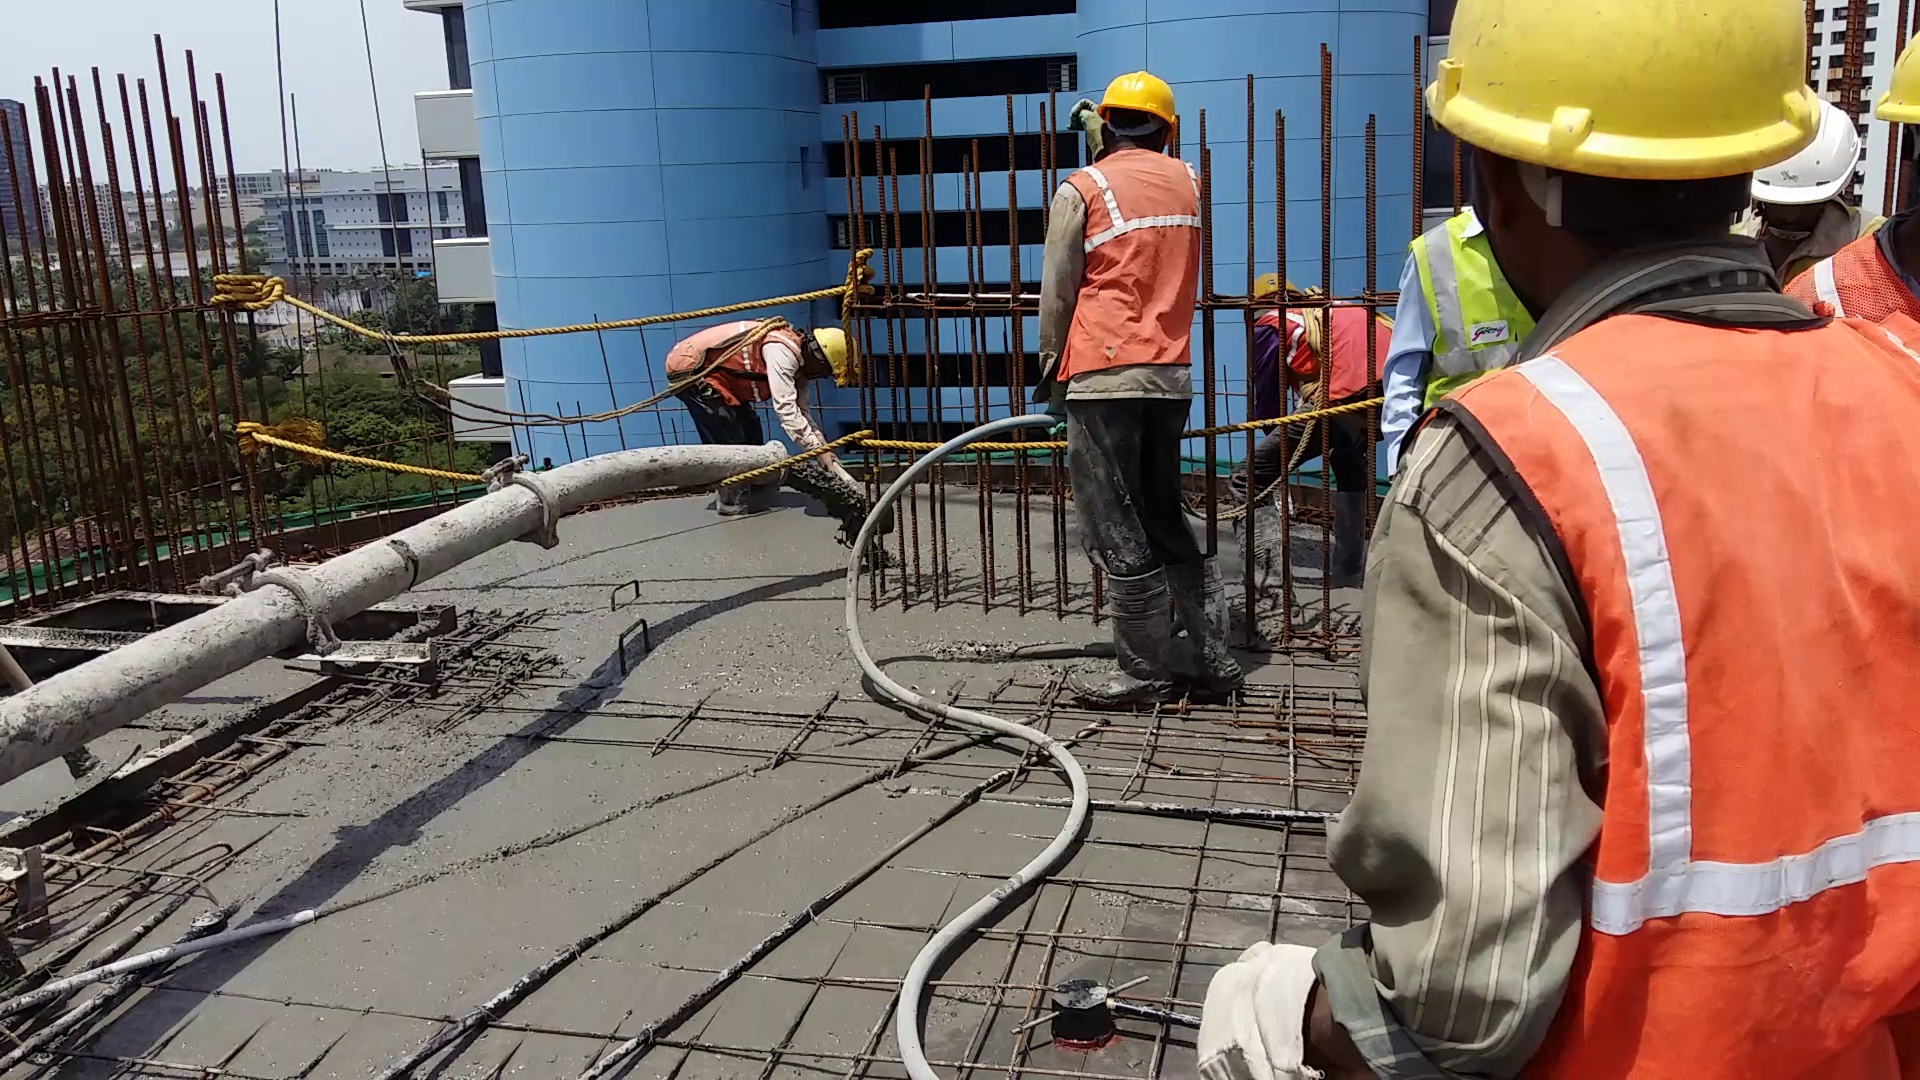SAFE: (1460, 1, 1909, 1051), (1060, 75, 1203, 409), (663, 314, 851, 407)
